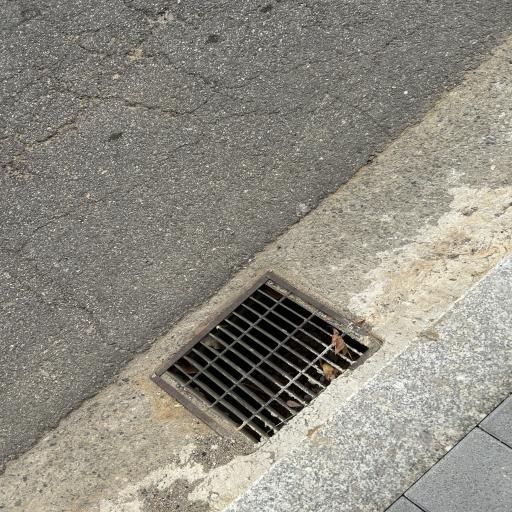debris: (330, 327, 352, 360), (320, 362, 342, 381), (204, 339, 221, 349), (286, 400, 299, 408)
drain: (150, 270, 384, 456)
